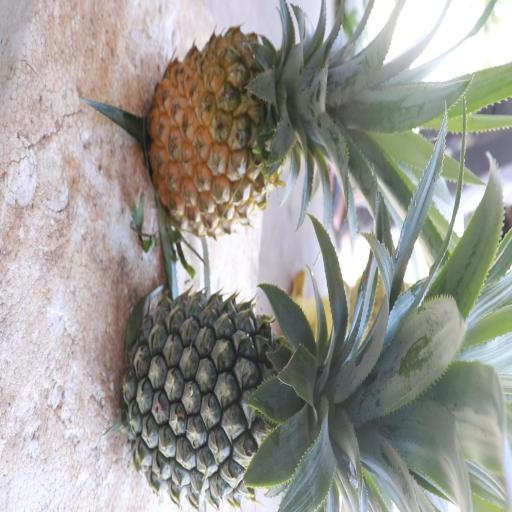Pineapple - v8 v1: (153, 9, 403, 221)
